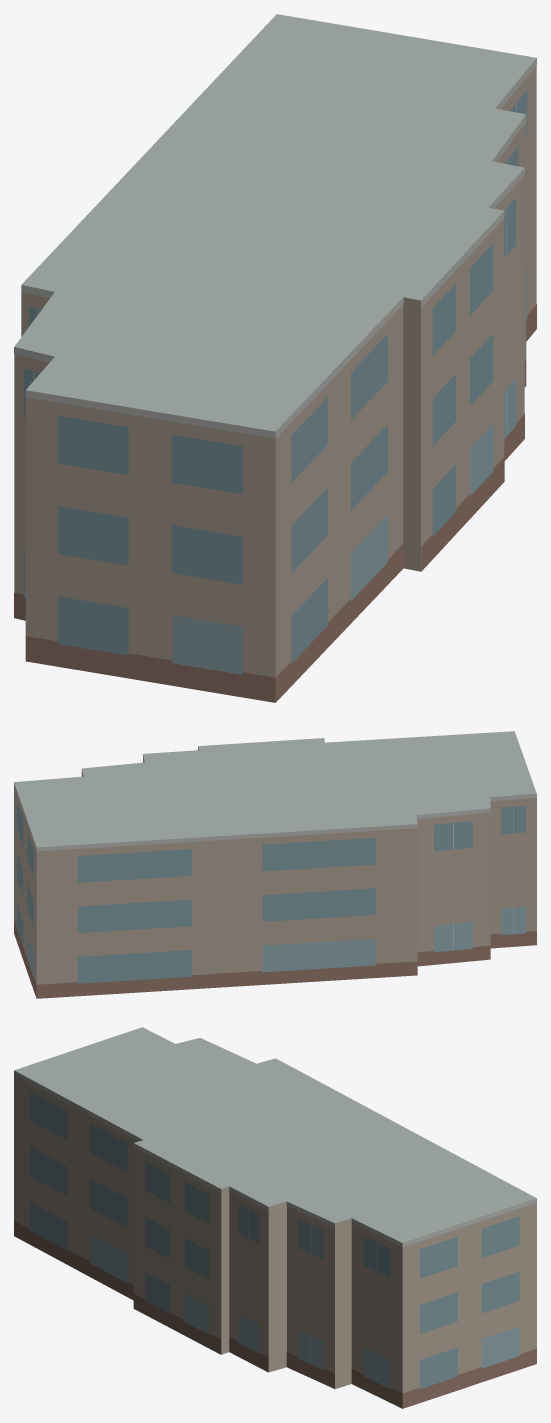
File: survey-upis-32876040.glb
The picture shows the model from 3 angles, top to bottom: view 1: azimuth 30°, elevation 25°; view 2: azimuth 150°, elevation 25°; view 3: azimuth 270°, elevation 25°; orthographic projection. The views are drawn at different scales.
Parts seen in each view (by area): view 1: survey-upis-32876040.tmp; view 2: survey-upis-32876040.tmp; view 3: survey-upis-32876040.tmp.
Part boxes in pixels (<box>): survey-upis-32876040.tmp: <box>14,14,536,702</box>; survey-upis-32876040.tmp: <box>14,731,536,998</box>; survey-upis-32876040.tmp: <box>14,1027,536,1408</box>.
Bounding box in the file's own units: 25.58 × 9.15 × 26.17.
